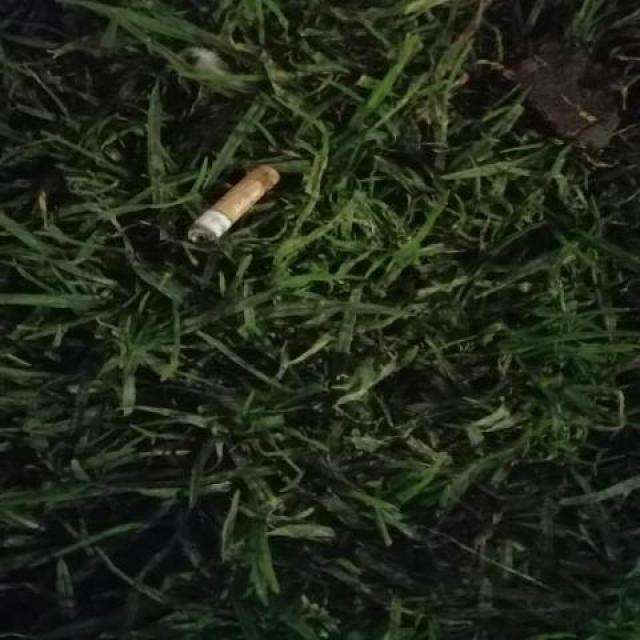non-organic waste: (184, 158, 285, 258)
